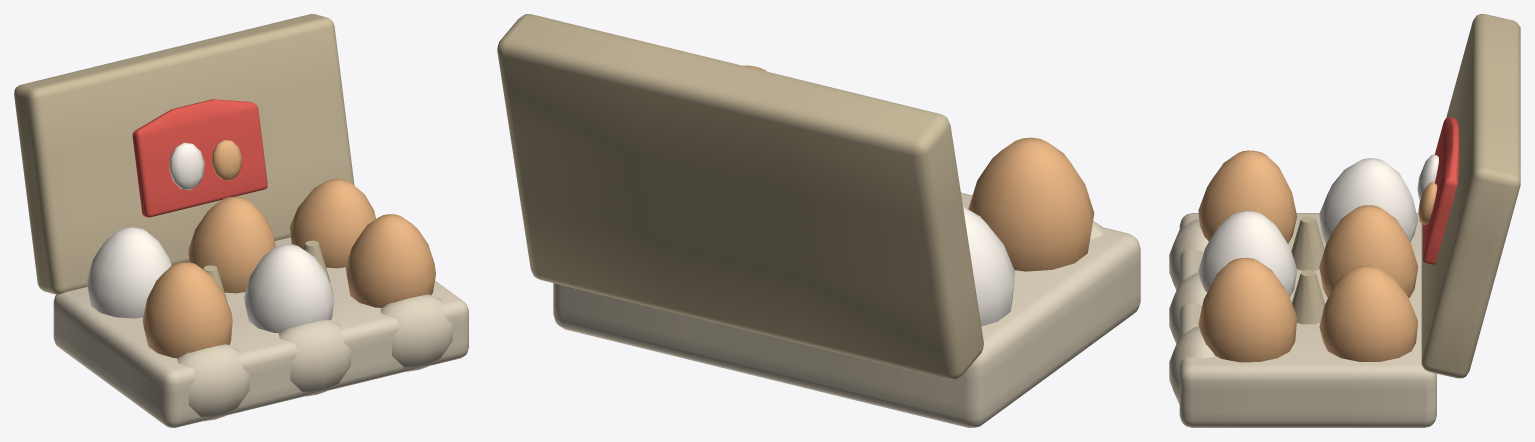
File: ovo.glb
3 views of the same model, side by side, from view 1: azimuth 30°, elevation 25°; view 2: azimuth 150°, elevation 25°; view 3: azimuth 270°, elevation 25° (orthographic). The views are drawn at different scales.
Parts seen in each view (by area): view 1: ovo; view 2: ovo; view 3: ovo.
Boxes of the visible parts, x1=… form: ovo: x1=14, y1=14, x2=468, y2=427; ovo: x1=497, y1=14, x2=1140, y2=427; ovo: x1=1169, y1=14, x2=1520, y2=427.
Size of the model in its own units: 0.2 by 0.1535 by 0.1846.
